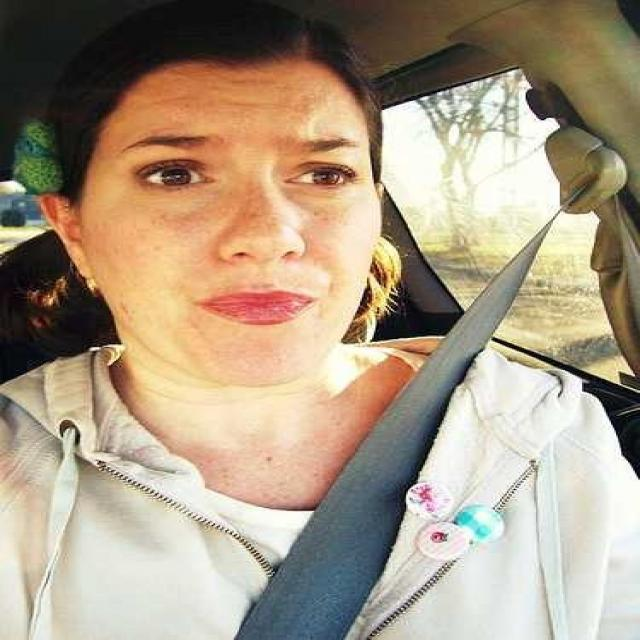seatbelt: (225, 169, 611, 608)
